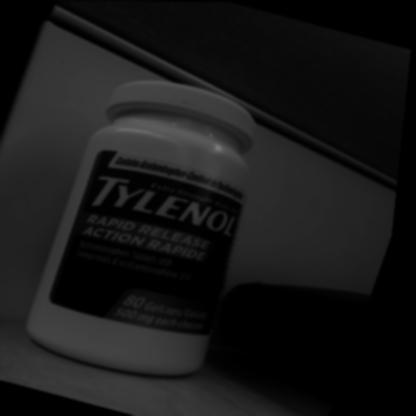jar: (22, 63, 269, 391)
